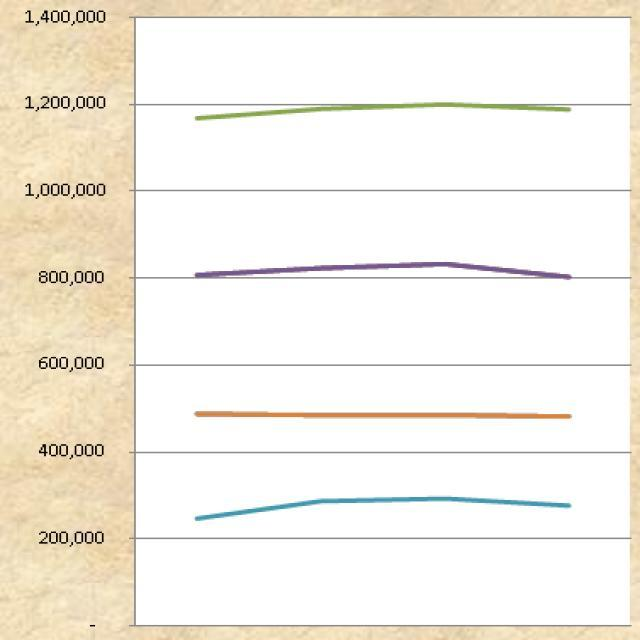axis: (127, 12, 140, 625), (132, 620, 633, 630)
line: (192, 494, 576, 525), (193, 258, 574, 283), (192, 100, 574, 124), (192, 408, 575, 421)
